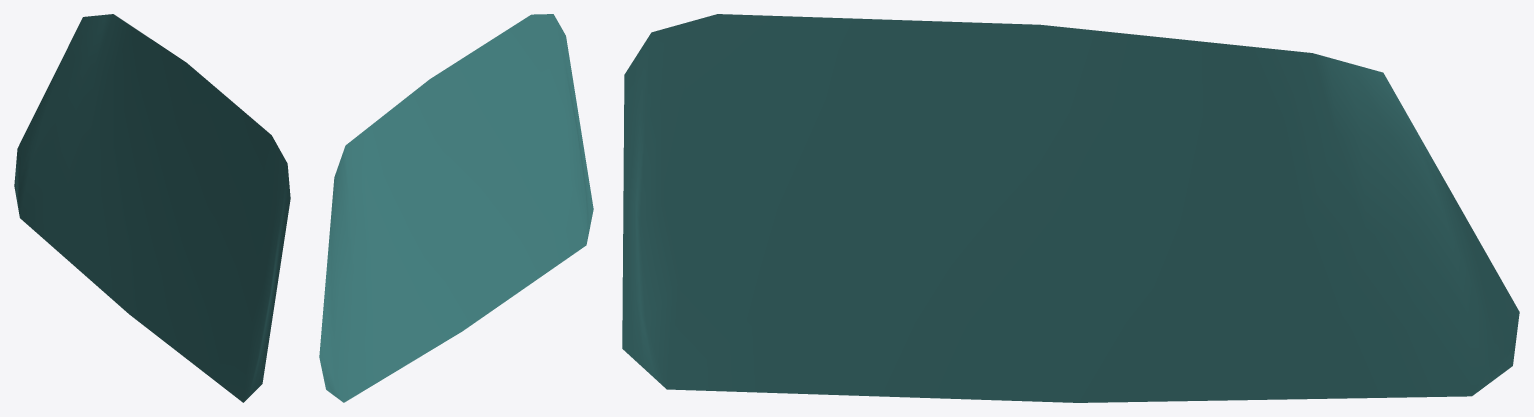
Rendered from Classic_2_Glass_RR_Tesselated.fbx.
The picture shows the model from 3 angles, left to right: view 1: azimuth 30°, elevation 25°; view 2: azimuth 150°, elevation 25°; view 3: azimuth 270°, elevation 25°; orthographic projection. The views are drawn at different scales.
Visible parts, largest first — view 1: Classic_2_Glass_RR_Tesselated; view 2: Classic_2_Glass_RR_Tesselated; view 3: Classic_2_Glass_RR_Tesselated.
Boxes of the visible parts, left/top/right/bottom form: Classic_2_Glass_RR_Tesselated: left=14, top=14, right=290, bottom=402; Classic_2_Glass_RR_Tesselated: left=319, top=14, right=593, bottom=402; Classic_2_Glass_RR_Tesselated: left=622, top=14, right=1519, bottom=402.
Size of the model in its own units: 19.69 by 74.24 by 145.
